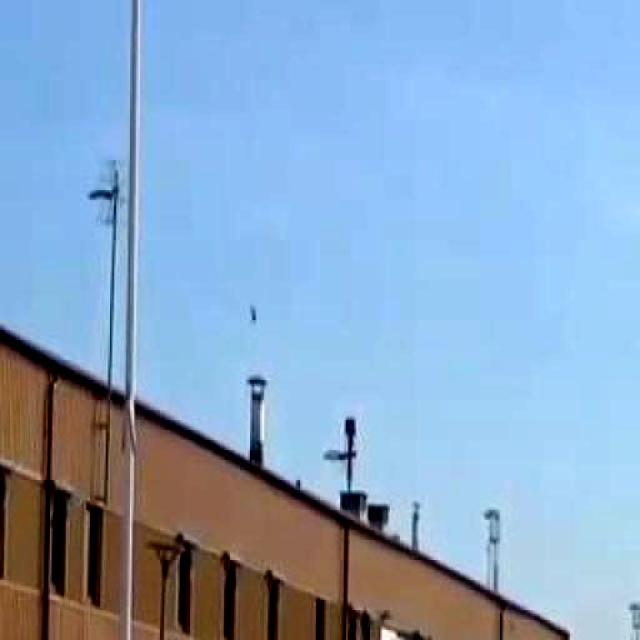drone: (226, 262, 288, 355)
